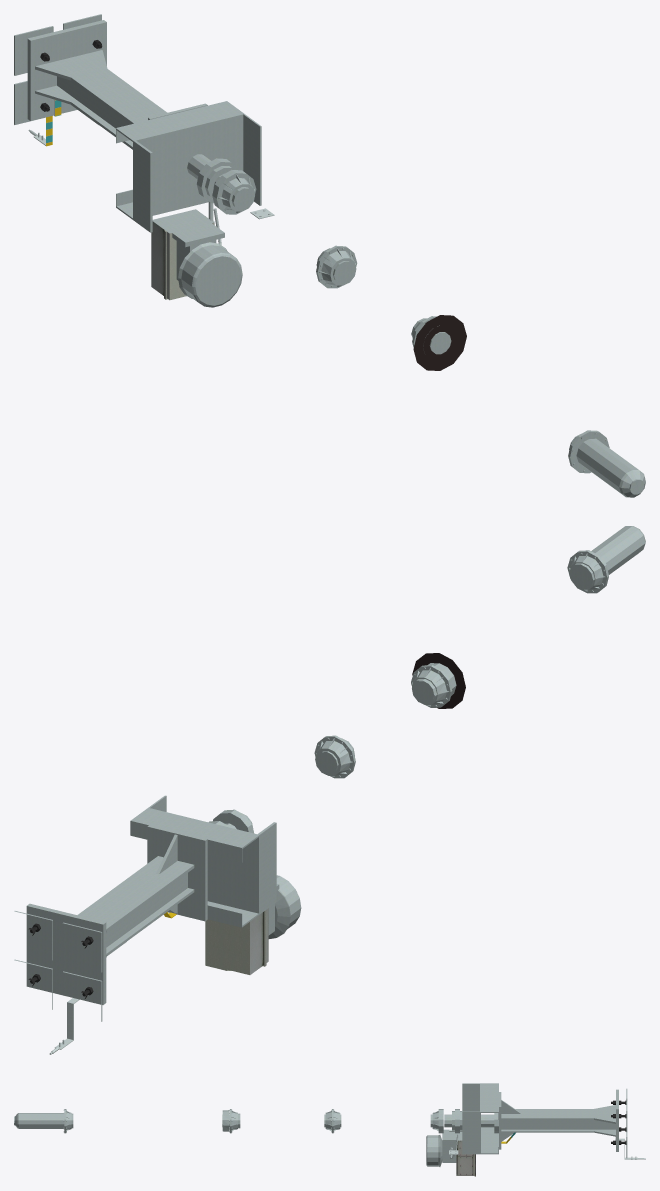
File: bt072-geode.glb
The picture shows the model from 3 angles, top to bottom: view 1: azimuth 30°, elevation 25°; view 2: azimuth 150°, elevation 25°; view 3: azimuth 270°, elevation 25°; orthographic projection. The views are drawn at different scales.
Parts seen in each view (by area): view 1: Node; view 2: Node; view 3: Node.
Boxes of the visible parts, x1,y1,x2,y2 form: Node: (14,14,645,497); Node: (14,526,645,1054); Node: (14,1083,645,1176).
Size of the model in its own units: 0.8735 by 1.12 by 8.09.
Materials: 6 (6 with a texture image).
